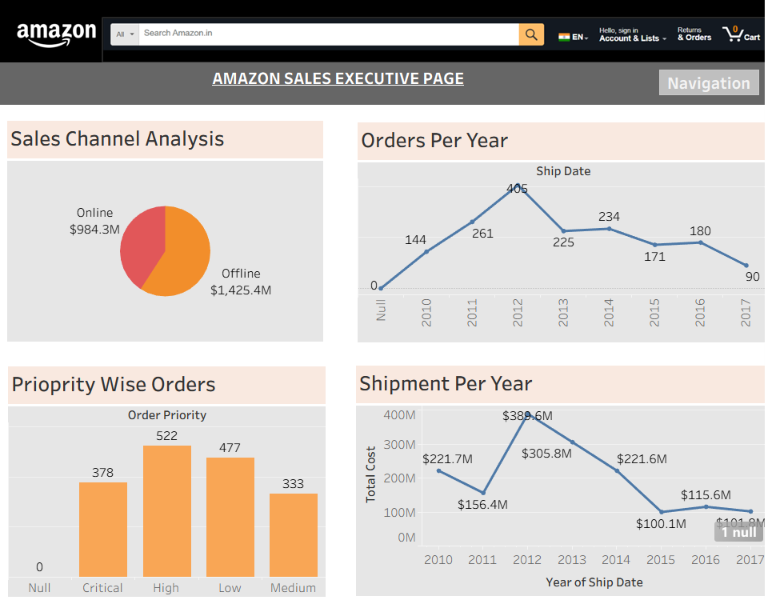

This screenshot's page, from the dashboard's own definition file:
{"tool":"tableau","page":{"name":"Executive Page","canvas":[1000,800],"ordinal":0},"visuals":[{"type":"blank","box":[14,13,965,84]},{"type":"image","param":"C:/Users/Aaditya Dalal/Desktop/amazon.png","box":[19,24,201,62]},{"type":"image","param":"C:/Users/Aaditya Dalal/Desktop/amaz.png","box":[147,36,827,54]},{"type":"blank","box":[14,91,965,53]},{"type":"text","box":[280,95,395,30]},{"type":"dashboard-object","box":[842,100,125,32]},{"type":"worksheet","title":"Sales Chanel Analysis","mark":"Pie","box":[27,164,395,276]},{"type":"worksheet","title":"Orders per year","mark":"Automatic","rows":["Calculation_1181768630411269"],"cols":["Ship Date"],"box":[465,166,514,275]},{"type":"worksheet","title":"Shipments Per Year","mark":"Automatic","rows":["Total Cost"],"cols":["Ship Date"],"box":[463,470,514,288]},{"type":"worksheet","title":"Priority wise orders","mark":"Automatic","rows":["Calculation_1181768630411269"],"cols":["Order Priority"],"box":[28,471,397,288]}]}

Visuals, with their boxes on the page's 1000x800 design canvas (x1, y1, x2, y2). These are canvas units, not pixel positions in the 765x600 screenshot, which may show the page scaled, cropped or inside an application window:
blank: crop(14, 13, 979, 97)
image: crop(19, 24, 220, 86)
image: crop(147, 36, 974, 90)
blank: crop(14, 91, 979, 144)
text: crop(280, 95, 675, 125)
dashboard-object: crop(842, 100, 967, 132)
"Sales Chanel Analysis" worksheet (Pie marks): crop(27, 164, 422, 440)
"Orders per year" worksheet: crop(465, 166, 979, 441)
"Shipments Per Year" worksheet: crop(463, 470, 977, 758)
"Priority wise orders" worksheet: crop(28, 471, 425, 759)
